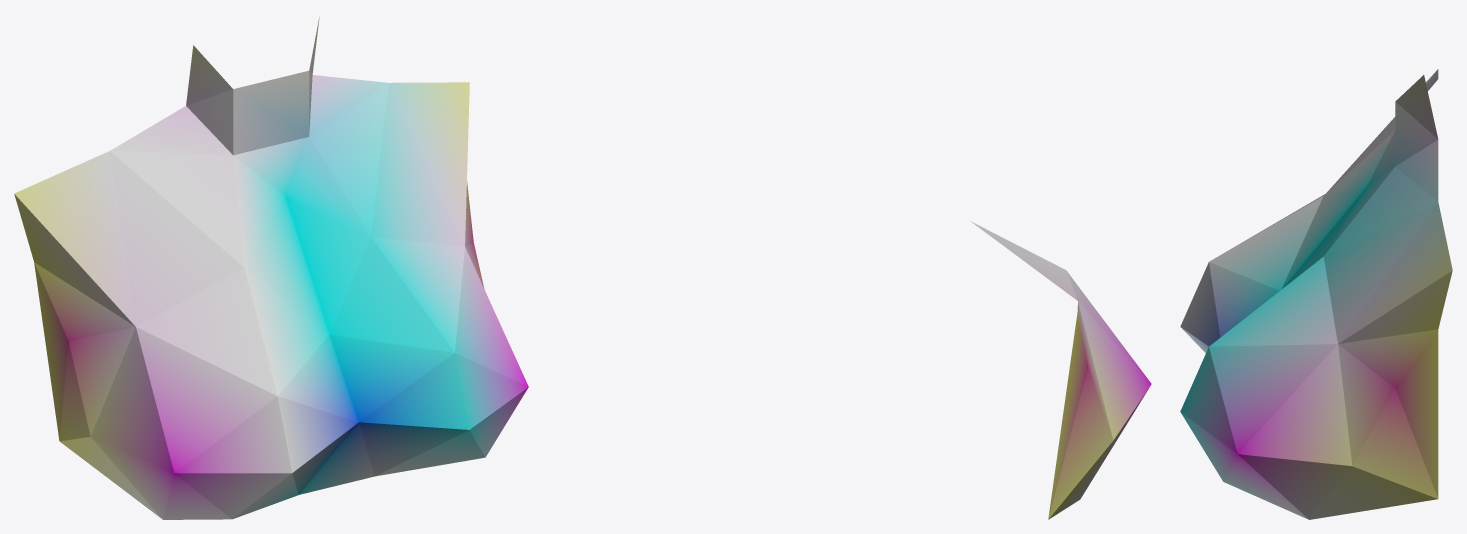
3 views of the same model, side by side, from view 1: azimuth 30°, elevation 25°; view 2: azimuth 150°, elevation 25°; view 3: azimuth 270°, elevation 25° (orthographic). The views are drawn at different scales.
Visible parts, largest first — view 1: model_11A9; view 2: model_11A9; view 3: model_11A9.
Part boxes in pixels (bbox=[...]): model_11A9: bbox=[14, 16, 528, 519]; model_11A9: bbox=[970, 221, 1151, 519]; model_11A9: bbox=[1180, 69, 1452, 519].
Bounding box in the file's own units: 36 × 31 × 19.
